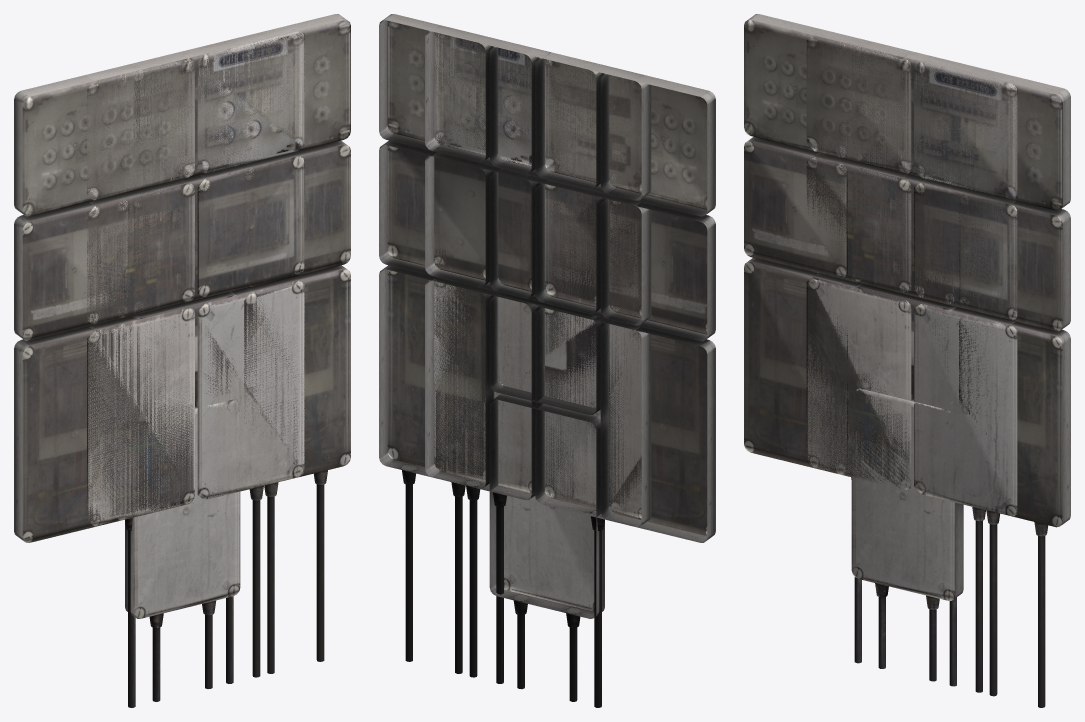
The model's file is fuse_box_0012.fbx.
3 views of the same model, side by side, from view 1: azimuth 30°, elevation 25°; view 2: azimuth 150°, elevation 25°; view 3: azimuth 330°, elevation 25° (orthographic). The views are drawn at different scales.
Parts seen in each view (by area): view 1: fuse_box_0012a, fuse_box_0012c, fuse_box_0012b; view 2: fuse_box_0012a, fuse_box_0012b, fuse_box_0012c; view 3: fuse_box_0012a, fuse_box_0012c, fuse_box_0012b.
Boxes of the visible parts, <box> form: fuse_box_0012a: <box>14,14,350,701</box>; fuse_box_0012c: <box>86,25,304,707</box>; fuse_box_0012b: <box>88,25,304,683</box>; fuse_box_0012a: <box>379,14,715,701</box>; fuse_box_0012b: <box>425,25,642,683</box>; fuse_box_0012c: <box>425,25,651,707</box>; fuse_box_0012a: <box>744,14,1070,707</box>; fuse_box_0012c: <box>806,29,1018,692</box>; fuse_box_0012b: <box>807,31,1018,696</box>.
Bounding box in the file's own units: 120 × 224 × 5.43.
